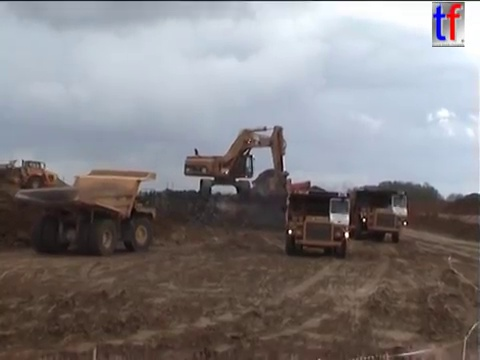excavator: (182, 124, 292, 203), (249, 174, 327, 207)
truck: (12, 167, 157, 256), (305, 187, 409, 244), (281, 189, 351, 258), (1, 158, 58, 192)
